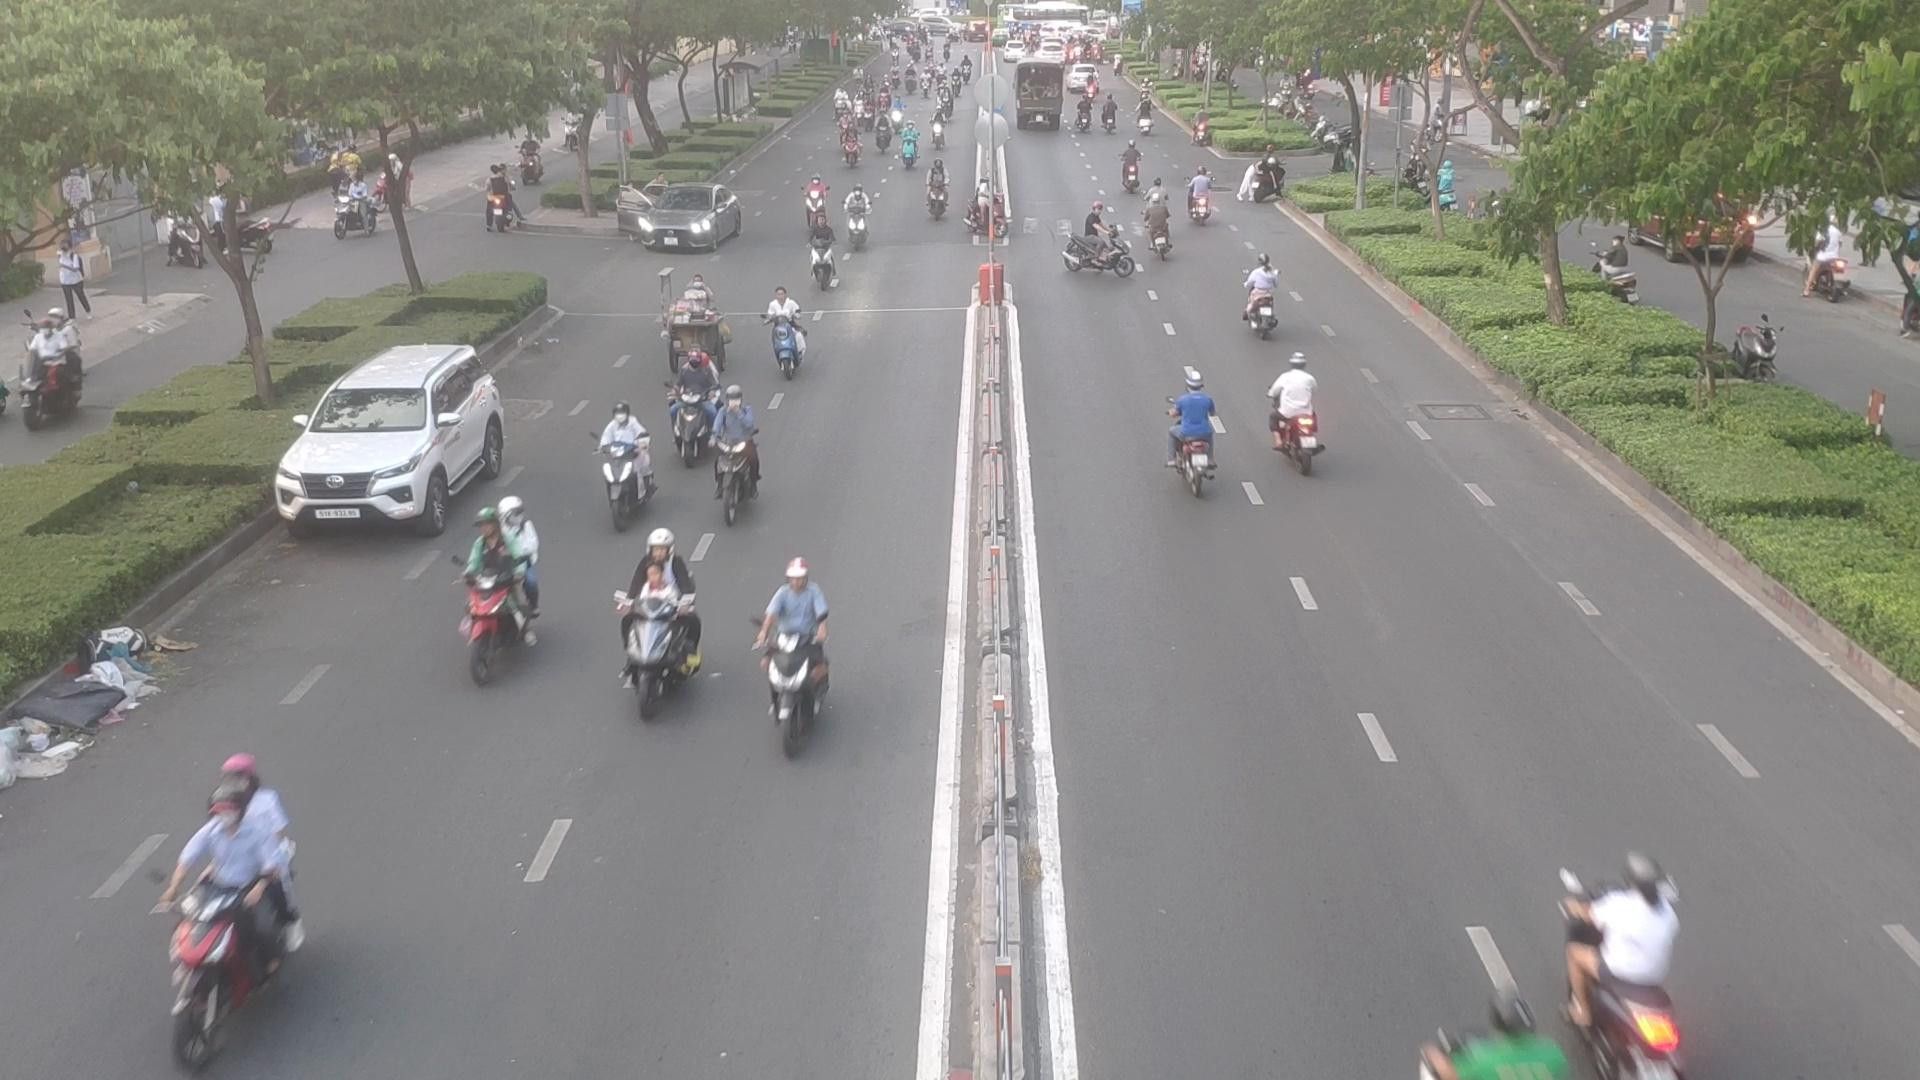car: (272, 343, 512, 535), (621, 189, 750, 257)
motorbike: (164, 744, 305, 1069), (1560, 836, 1691, 1073), (754, 543, 836, 742), (622, 520, 704, 716), (458, 568, 542, 688), (1156, 367, 1220, 491), (597, 401, 657, 529), (1265, 356, 1329, 473), (1054, 200, 1137, 287), (716, 381, 764, 520), (750, 273, 811, 378), (667, 343, 716, 464), (1129, 186, 1176, 255), (1244, 249, 1279, 336), (800, 222, 840, 295), (837, 183, 876, 244), (1185, 160, 1216, 229), (897, 121, 920, 173), (930, 160, 945, 220), (841, 117, 861, 164), (1137, 98, 1159, 136), (1124, 146, 1141, 189)
